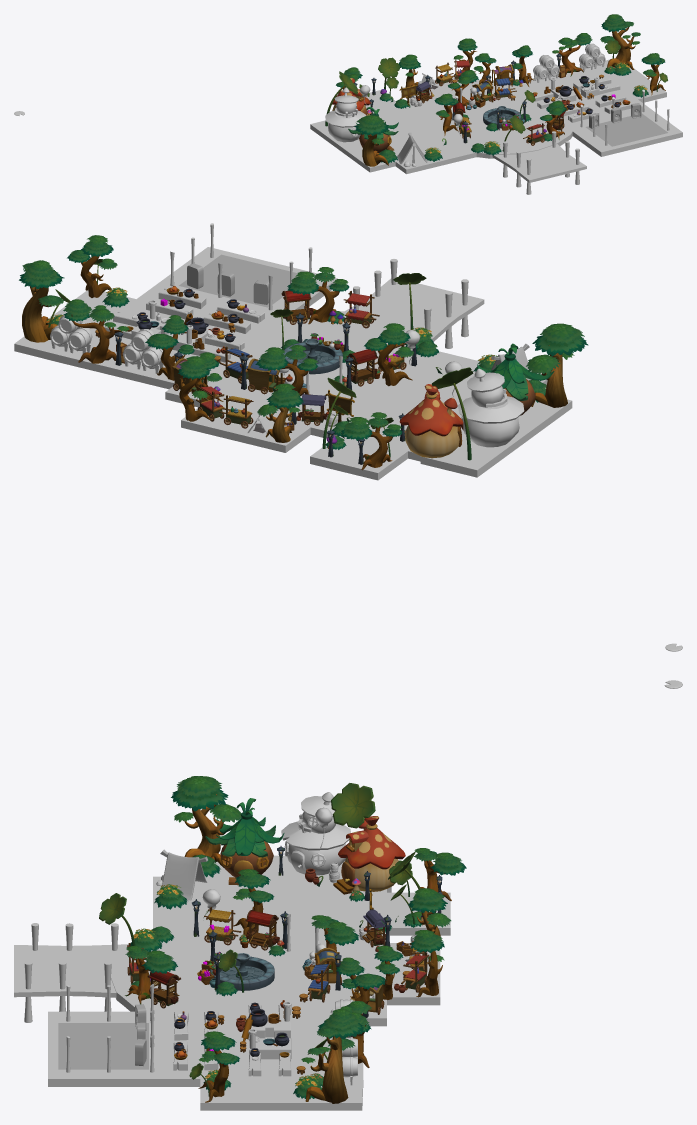
The model's file is GhostFestival (1).fbx.
3 renders of one model, top to bottom at view 1: azimuth 30°, elevation 25°; view 2: azimuth 150°, elevation 25°; view 3: azimuth 270°, elevation 25°, orthographic. The views are drawn at different scales.
Visible parts, largest first — view 1: Ground, polySurface754, Dance_Area1, StoreyHouse_Set1, polySurface641, LeafHouseSet1, DrinkBarrels, DrinkBarrels1, KitchenArea, Fountain1, polySurface643, polySurface700 (+7 smaller); view 2: Ground, polySurface754, Dance_Area1, StoreyHouse_Set1, Mushroom_House, LeafHouseSet1, polySurface641, DrinkBarrels, Fountain1, DrinkBarrels1, polySurface643, polySurface679 (+8 smaller); view 3: Ground, polySurface754, Dance_Area1, StoreyHouse_Set1, Mushroom_House, LeafHouseSet1, polySurface641, Big_Leaf, Fountain1, Tent_2, KitchenArea, polySurface643 (+6 smaller).
Boxes of the visible parts, x1=… form: Ground: x1=310, y1=59, x2=682, y2=174; polySurface754: x1=492, y1=144, x2=586, y2=182; Dance_Area1: x1=585, y1=103, x2=667, y2=146; StoreyHouse_Set1: x1=325, y1=87, x2=366, y2=142; polySurface641: x1=607, y1=26, x2=635, y2=69; LeafHouseSet1: x1=348, y1=107, x2=398, y2=152; DrinkBarrels: x1=533, y1=55, x2=559, y2=82; DrinkBarrels1: x1=579, y1=43, x2=605, y2=71; KitchenArea: x1=550, y1=77, x2=599, y2=101; Fountain1: x1=483, y1=106, x2=521, y2=128; polySurface643: x1=362, y1=134, x2=388, y2=166; polySurface700: x1=378, y1=57, x2=400, y2=89; Ground: x1=14, y1=247, x2=572, y2=480; polySurface754: x1=345, y1=278, x2=484, y2=341; Dance_Area1: x1=179, y1=254, x2=298, y2=307; StoreyHouse_Set1: x1=458, y1=368, x2=524, y2=447; Mushroom_House: x1=399, y1=384, x2=463, y2=458; LeafHouseSet1: x1=477, y1=343, x2=554, y2=415; polySurface641: x1=22, y1=286, x2=57, y2=342; DrinkBarrels: x1=123, y1=329, x2=163, y2=373; Fountain1: x1=283, y1=338, x2=342, y2=374; DrinkBarrels1: x1=50, y1=315, x2=92, y2=353; polySurface643: x1=531, y1=345, x2=567, y2=407; polySurface679: x1=71, y1=314, x2=122, y2=363; Ground: x1=48, y1=855, x2=450, y2=1110; polySurface754: x1=14, y1=944, x2=128, y2=997; Dance_Area1: x1=58, y1=1004, x2=148, y2=1069; StoreyHouse_Set1: x1=281, y1=792, x2=350, y2=875; Mushroom_House: x1=333, y1=816, x2=405, y2=894; LeafHouseSet1: x1=205, y1=798, x2=284, y2=885; polySurface641: x1=305, y1=1036, x2=348, y2=1103; Big_Leaf: x1=331, y1=783, x2=375, y2=828; Fountain1: x1=210, y1=953, x2=274, y2=990; Tent_2: x1=160, y1=849, x2=207, y2=900; KitchenArea: x1=248, y1=1001, x2=291, y2=1059; polySurface643: x1=184, y1=794, x2=225, y2=868.
Bounding box in the file's own units: 29.61 × 3.88 × 19.44.
